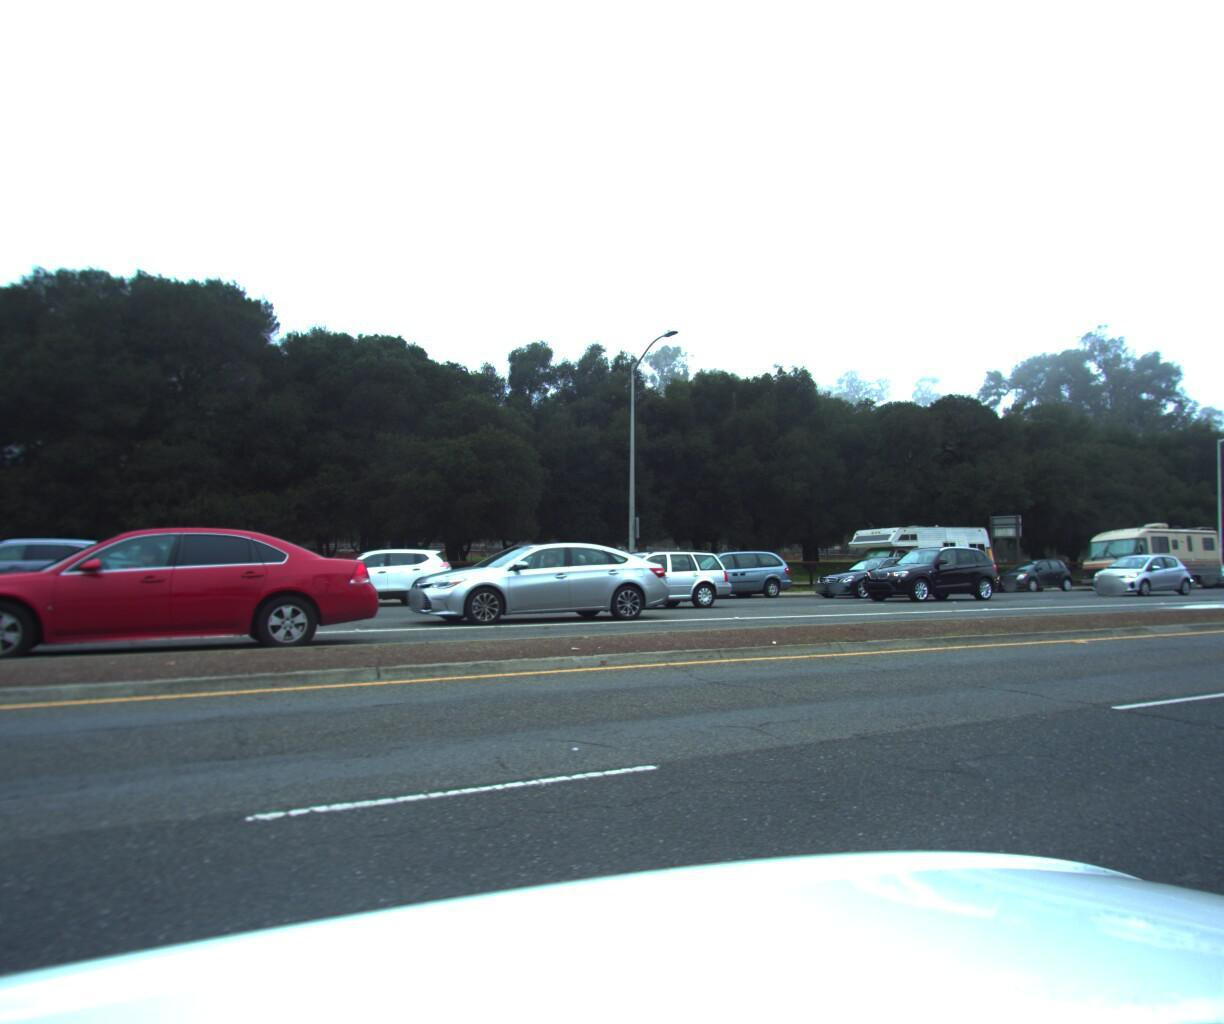car: (373, 535, 673, 634), (551, 545, 740, 612), (288, 543, 463, 615), (851, 542, 1005, 602), (648, 547, 799, 607), (806, 550, 953, 597), (1076, 548, 1194, 593), (989, 554, 1073, 593), (1190, 556, 1224, 589)
other_vehicle: (835, 517, 999, 602), (1066, 514, 1222, 594)
